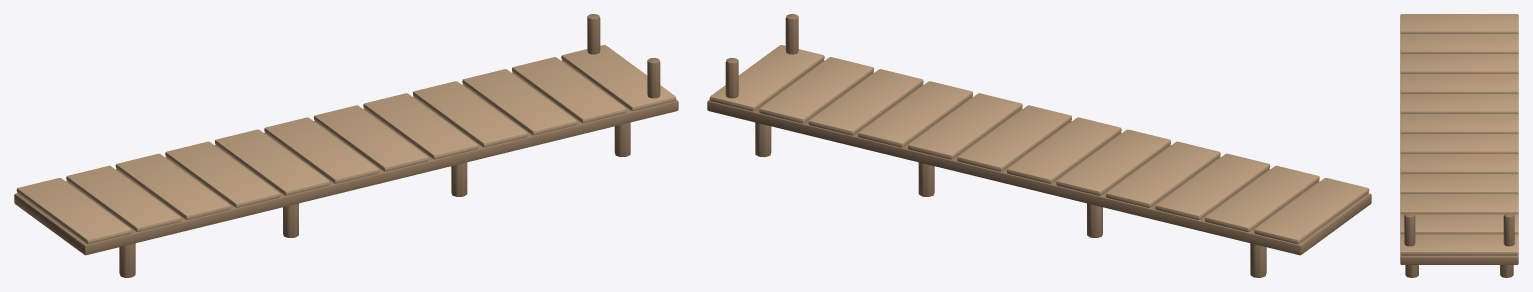
Rendered from Pier.fbx.
3 views of the same model, side by side, from view 1: azimuth 30°, elevation 25°; view 2: azimuth 150°, elevation 25°; view 3: azimuth 270°, elevation 25° (orthographic). The views are drawn at different scales.
Parts seen in each view (by area): view 1: Pier_Model; view 2: Pier_Model; view 3: Pier_Model.
Part boxes in pixels (box(x1,y1,x2,y2)): Pier_Model: box(14, 14, 678, 277); Pier_Model: box(707, 14, 1371, 277); Pier_Model: box(1400, 14, 1518, 277).
Size of the model in its own units: 12 by 1.7 by 2.5.
